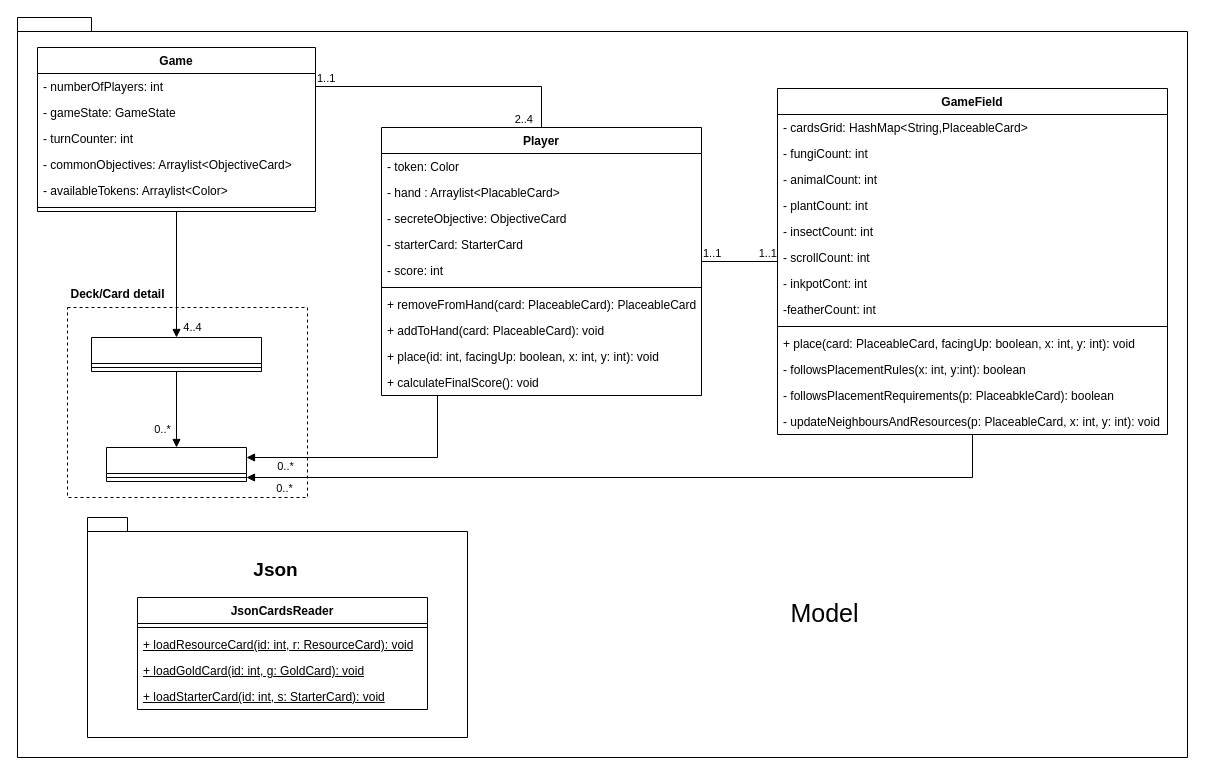
Some shapes in this 1205 by 775 pixel diagram are drawn without their labels. Each missing label, with the centre of its shape:
Card: [176,464]
Deck: [176,354]
